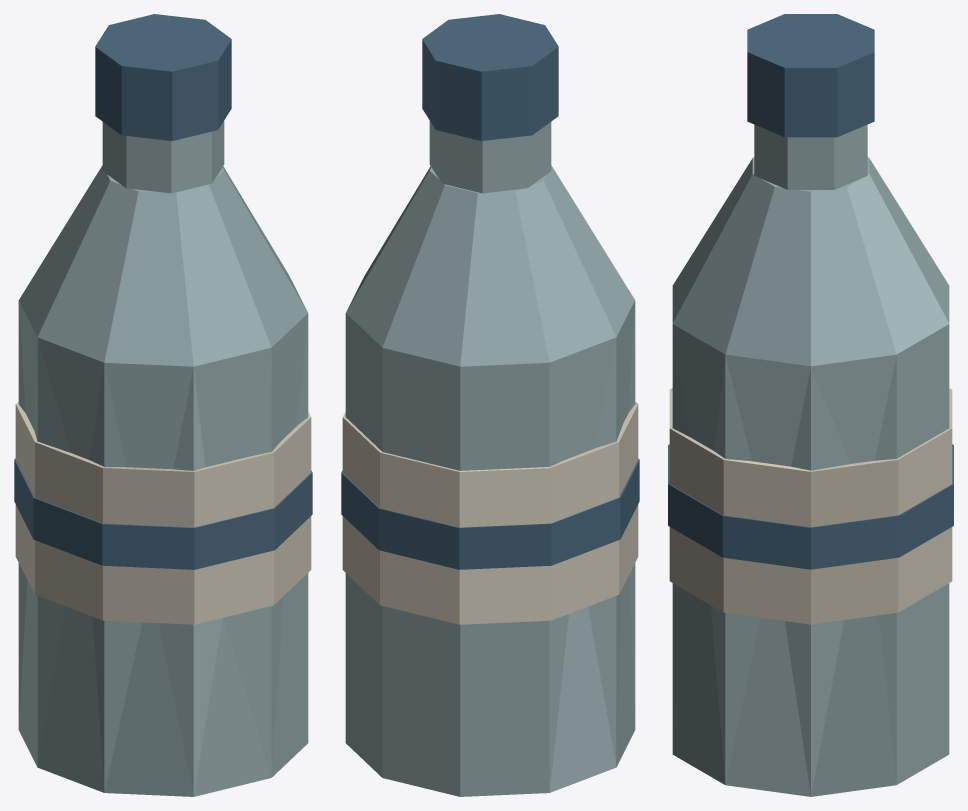
File: bottle_water_plastikovaya_0_5_l_idle.glb
3 renders of one model, left to right at view 1: azimuth 30°, elevation 25°; view 2: azimuth 150°, elevation 25°; view 3: azimuth 270°, elevation 25°, orthographic.
Visible parts, largest first — view 1: bottle_water_plastikovaya_0_5_l_idle; view 2: bottle_water_plastikovaya_0_5_l_idle; view 3: bottle_water_plastikovaya_0_5_l_idle.
Boxes of the visible parts, x1,y1,x2,y2 form: bottle_water_plastikovaya_0_5_l_idle: [14, 14, 312, 796]; bottle_water_plastikovaya_0_5_l_idle: [341, 14, 639, 796]; bottle_water_plastikovaya_0_5_l_idle: [668, 14, 953, 796].
Bounding box in the file's own units: 0.0784 × 0.2 × 0.0746.
Materials: 1 (1 with a texture image).
